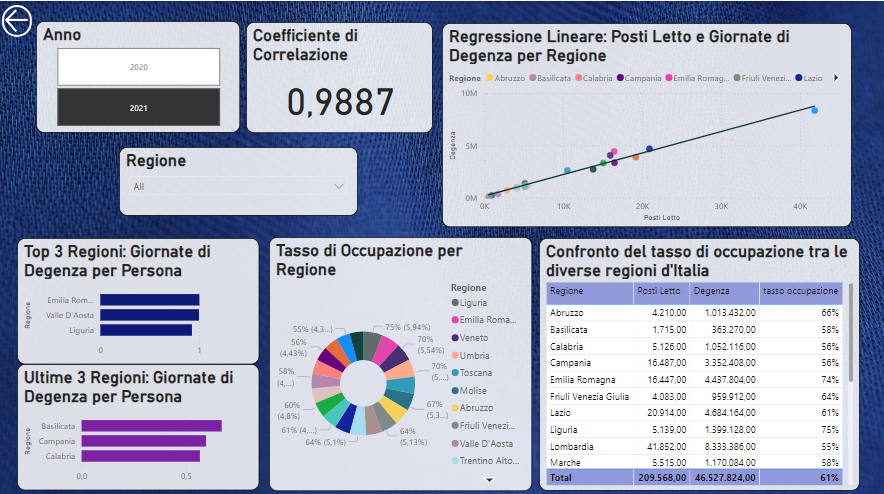

This screenshot's page, from the dashboard's own definition file:
{"tool":"powerbi","page":{"name":"Posti Letto/Giornate","canvas":[1280,720],"ordinal":3},"visuals":[{"type":"card","title":"Coefficiente di Correlazione","fields":{"Values":["Measures (2).posti_letto and giornate correlation for nome"]},"box":[357.1,30.2,269.3,159.8],"z":0},{"type":"slicer","title":"Anno","fields":{"Values":["Calendar.Year"]},"box":[54.7,28.8,293.8,161.3],"z":1000},{"type":"clusteredBarChart","title":"Top 3 Regioni: Giornate di Degenza per Persona","fields":{"Category":["sanita regioni.nome"],"Y":["Measures (2).Giornate di degenza per persona"]},"box":[27.3,340.9,349.4,182.4],"z":2000},{"type":"slicer","title":"Regione","fields":{"Values":["sanita regioni.nome"]},"box":[174.2,210.2,344.2,99.4],"z":3000},{"type":"clusteredBarChart","title":"Ultime 3 Regioni: Giornate di Degenza per Persona","fields":{"Category":["sanita regioni.nome"],"Y":["Measures (2).Giornate di degenza per persona"]},"box":[27.3,523.2,349.4,182.4],"z":4000},{"type":"tableEx","title":"Confronto del tasso di occupazione tra le diverse regioni d''Italia","fields":{"Values":["sanita regioni.nome","Measures (2).Posti Letto ALL","Measures (2).Degenza ALL","Measures (2).tasso occupazione"]},"box":[779.2,341.2,461.9,364.1],"z":5000},{"type":"scatterChart","title":"Regressione Lineare: Posti Letto e Giornate di  Degenza per Regione","fields":{"Series":["sanita regioni.nome"],"Y":["Measures (2).Degenza ALL"],"X":["Measures (2).Posti Letto ALL"]},"box":[639.4,31.7,590.4,293.8],"z":6000},{"type":"donutChart","title":"Tasso di Occupazione per Regione","fields":{"Category":["sanita regioni.nome"],"Y":["Measures (2).tasso occupazione"]},"box":[390.2,339.8,378.7,365.8],"z":7000},{"type":"actionButton","box":[5.8,5.8,43.2,46.1],"z":7001}]}

Visuals, with their boxes in screenshot pixels (x1, y1, x2, y2), scaled from the page's 1280x720 canvas onto the 884x494 screenshot:
"Coefficiente di Correlazione" card: region(247, 21, 433, 130)
"Anno" slicer: region(38, 20, 241, 130)
"Top 3 Regioni: Giornate di Degenza per Persona" clusteredBarChart: region(19, 234, 260, 359)
"Regione" slicer: region(120, 144, 358, 212)
"Ultime 3 Regioni: Giornate di Degenza per Persona" clusteredBarChart: region(19, 359, 260, 484)
"Confronto del tasso di occupazione tra le diverse regioni d''Italia" tableEx: region(538, 234, 857, 484)
"Regressione Lineare: Posti Letto e Giornate di  Degenza per Regione" scatterChart: region(442, 22, 849, 223)
"Tasso di Occupazione per Regione" donutChart: region(269, 233, 531, 484)
actionButton: region(4, 4, 34, 36)
